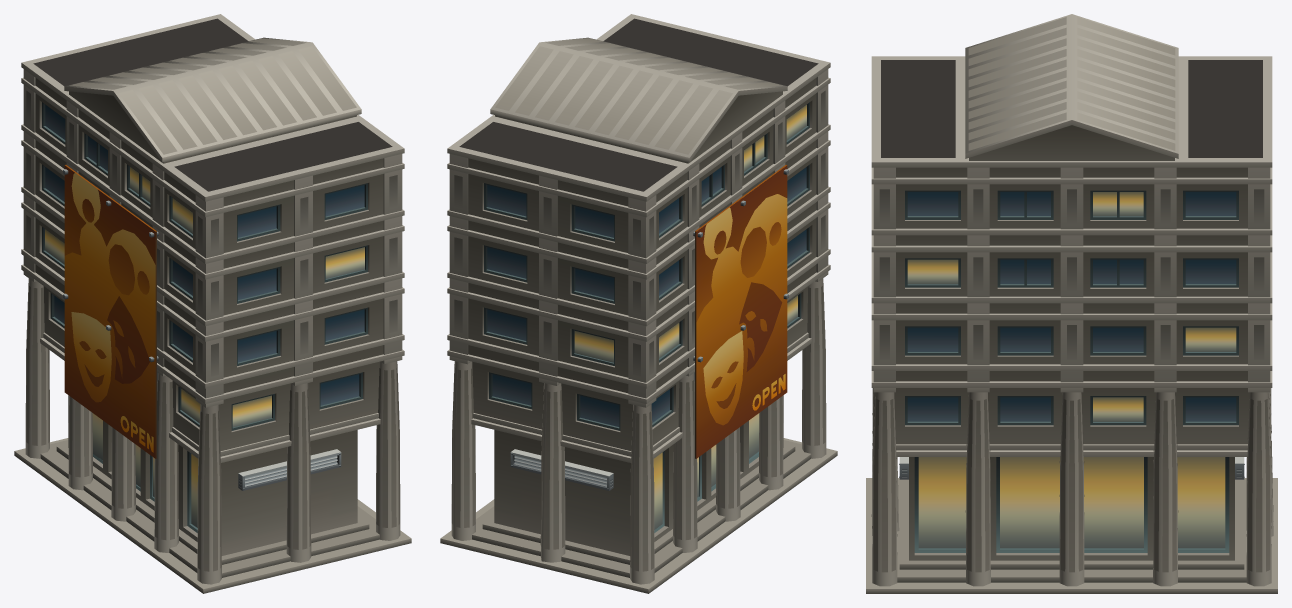
Rendered from Building_13B.fbx.
3 renders of one model, left to right at view 1: azimuth 30°, elevation 25°; view 2: azimuth 150°, elevation 25°; view 3: azimuth 270°, elevation 25°, orthographic. The views are drawn at different scales.
Visible parts, largest first — view 1: Building_13B, Branding_13B, Window_Lights_13B, Air_Conditioner_13B; view 2: Building_13B, Branding_13B, Window_Lights_13B, Air_Conditioner_13B; view 3: Building_13B, Window_Lights_13B.
Boxes of the visible parts, <box> form: Building_13B: <box>14,14,411,593</box>; Branding_13B: <box>63,165,158,458</box>; Window_Lights_13B: <box>45,167,364,527</box>; Air_Conditioner_13B: <box>238,449,341,490</box>; Building_13B: <box>440,14,837,593</box>; Branding_13B: <box>693,165,788,458</box>; Window_Lights_13B: <box>574,104,806,529</box>; Air_Conditioner_13B: <box>510,449,613,490</box>; Building_13B: <box>866,14,1277,593</box>; Window_Lights_13B: <box>907,192,1236,548</box>.
Size of the model in its own units: 1412 by 2780 by 2200.
